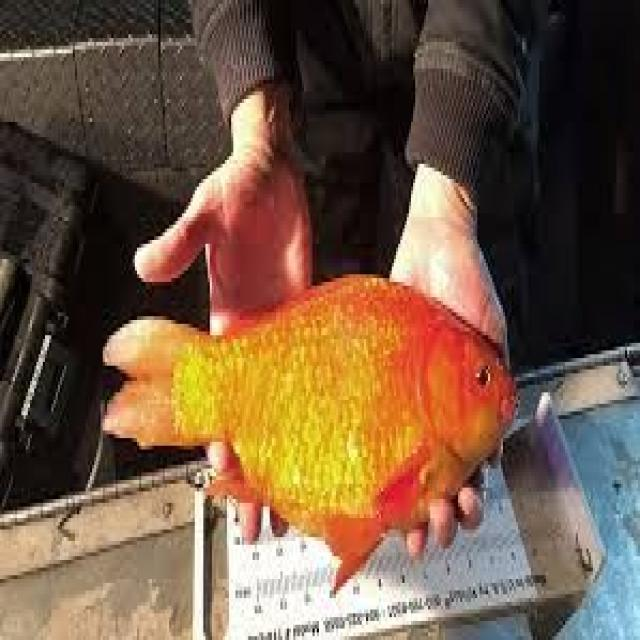Gold-Fish: (106, 172, 550, 602)
